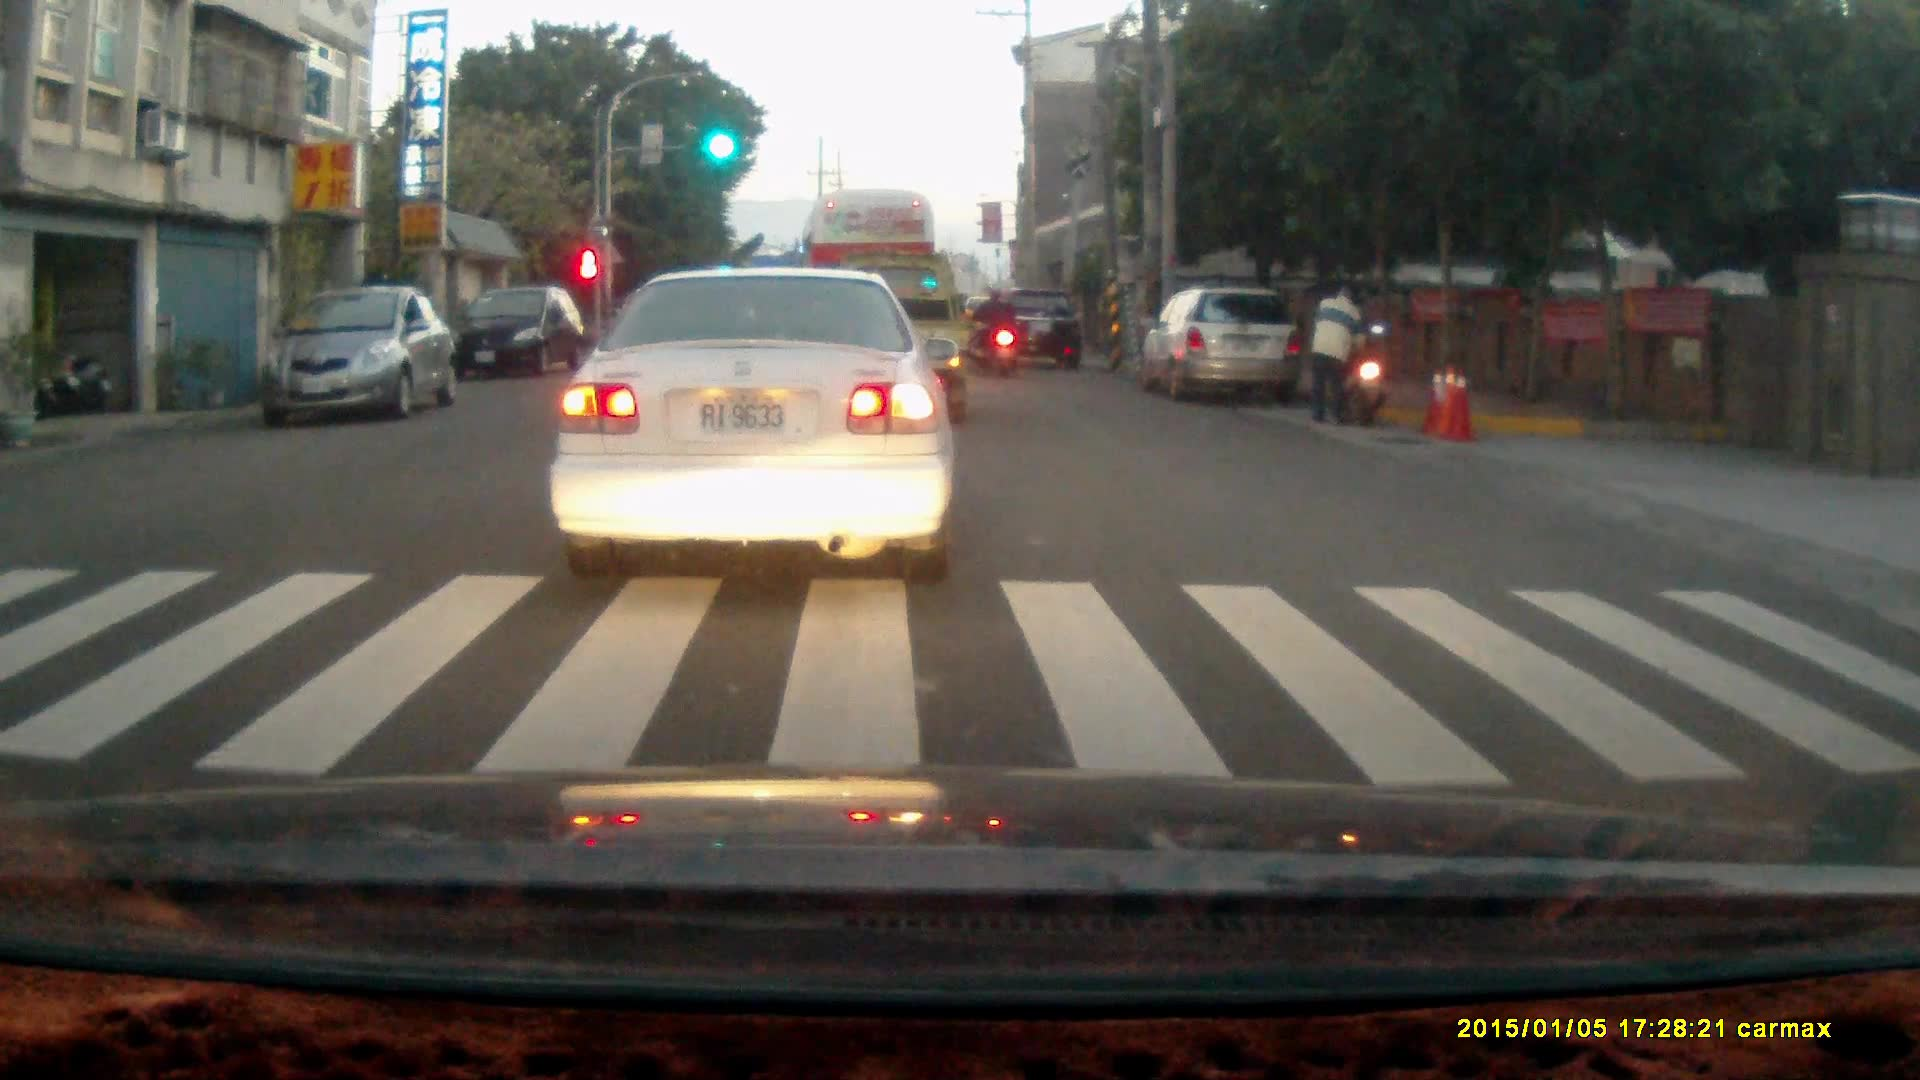pedestrian: (1309, 282, 1368, 424)
rider: (970, 278, 1017, 375)
vehicle: (550, 267, 954, 575), (253, 281, 469, 425), (796, 186, 943, 391), (1145, 286, 1302, 398), (452, 285, 583, 386), (993, 287, 1088, 367)
